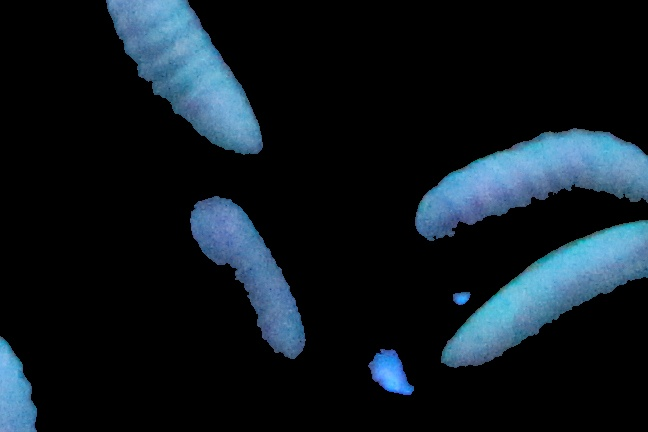larvae: (439, 221, 648, 369), (99, 1, 264, 163), (413, 130, 648, 241), (183, 185, 303, 364)
